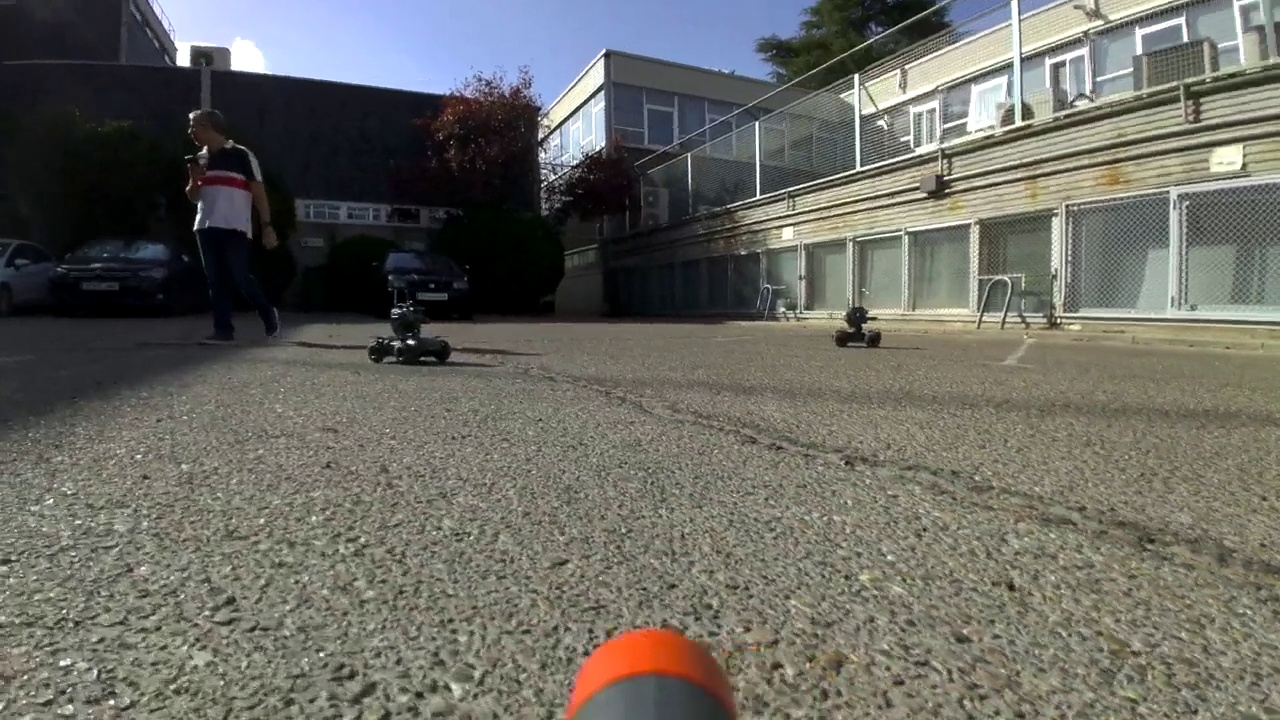robot: (370, 286, 454, 363), (837, 291, 883, 350)
